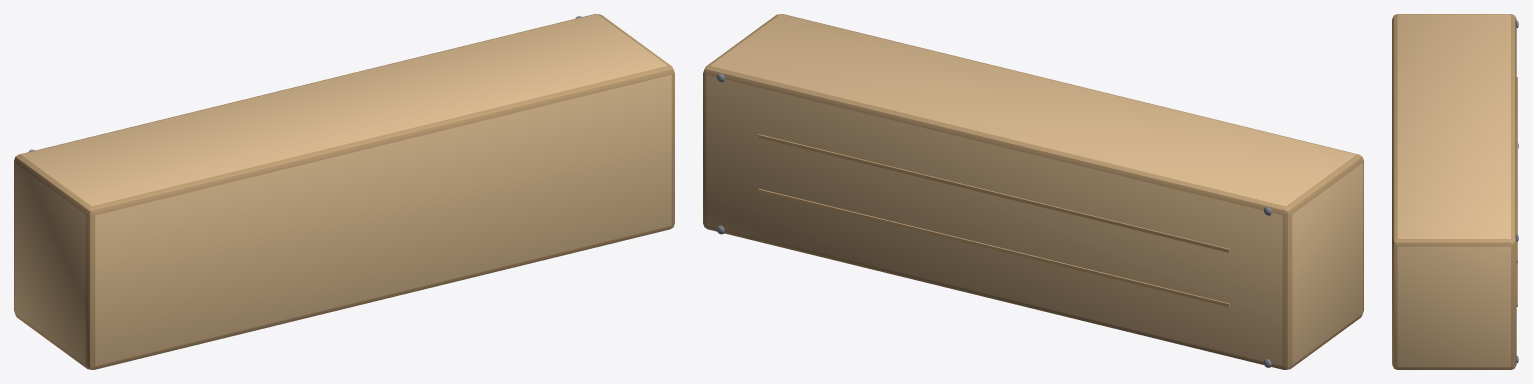
The model's file is RectangleLargeWood.fbx.
3 renders of one model, left to right at view 1: azimuth 30°, elevation 25°; view 2: azimuth 150°, elevation 25°; view 3: azimuth 270°, elevation 25°, orthographic. The views are drawn at different scales.
Visible parts, largest first — view 1: RectangleLargeWood; view 2: RectangleLargeWood; view 3: RectangleLargeWood.
Part boxes in pixels (bbox=[...]): RectangleLargeWood: bbox=[14, 14, 674, 369]; RectangleLargeWood: bbox=[703, 14, 1363, 369]; RectangleLargeWood: bbox=[1392, 14, 1518, 369].
Size of the model in its own units: 9.6 by 2.55 by 2.24.
